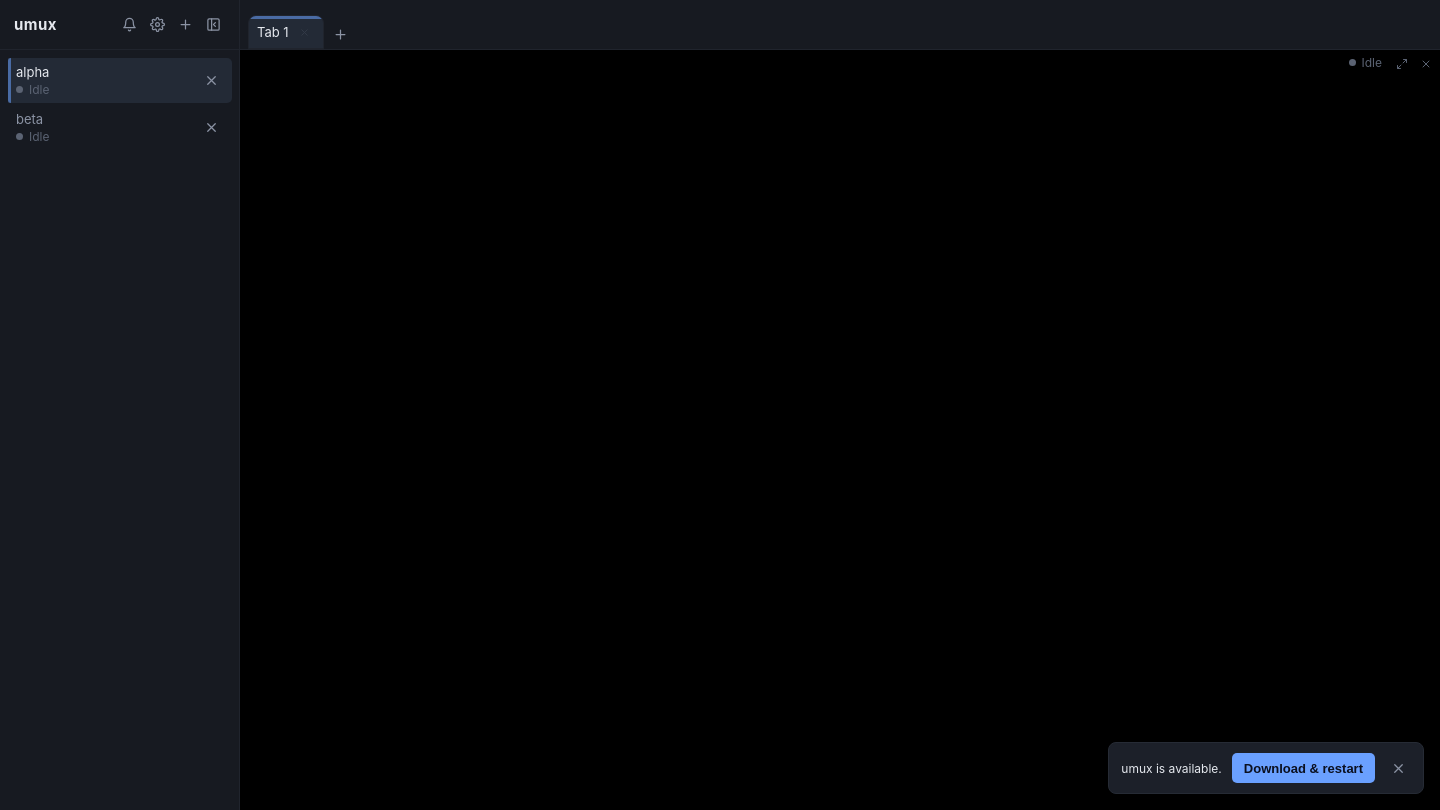
Test: terminal tabs, pin, and rename menu (#37 rework) › offers Pin and Rename in the row menu, both before Delete — and no split items (#47)
Expected: the text "alpha" is shown, [16, 64, 49, 80]
Right-click the list item with test id "workspace-row-ws-1" at [120, 80], box [8, 58, 232, 103]
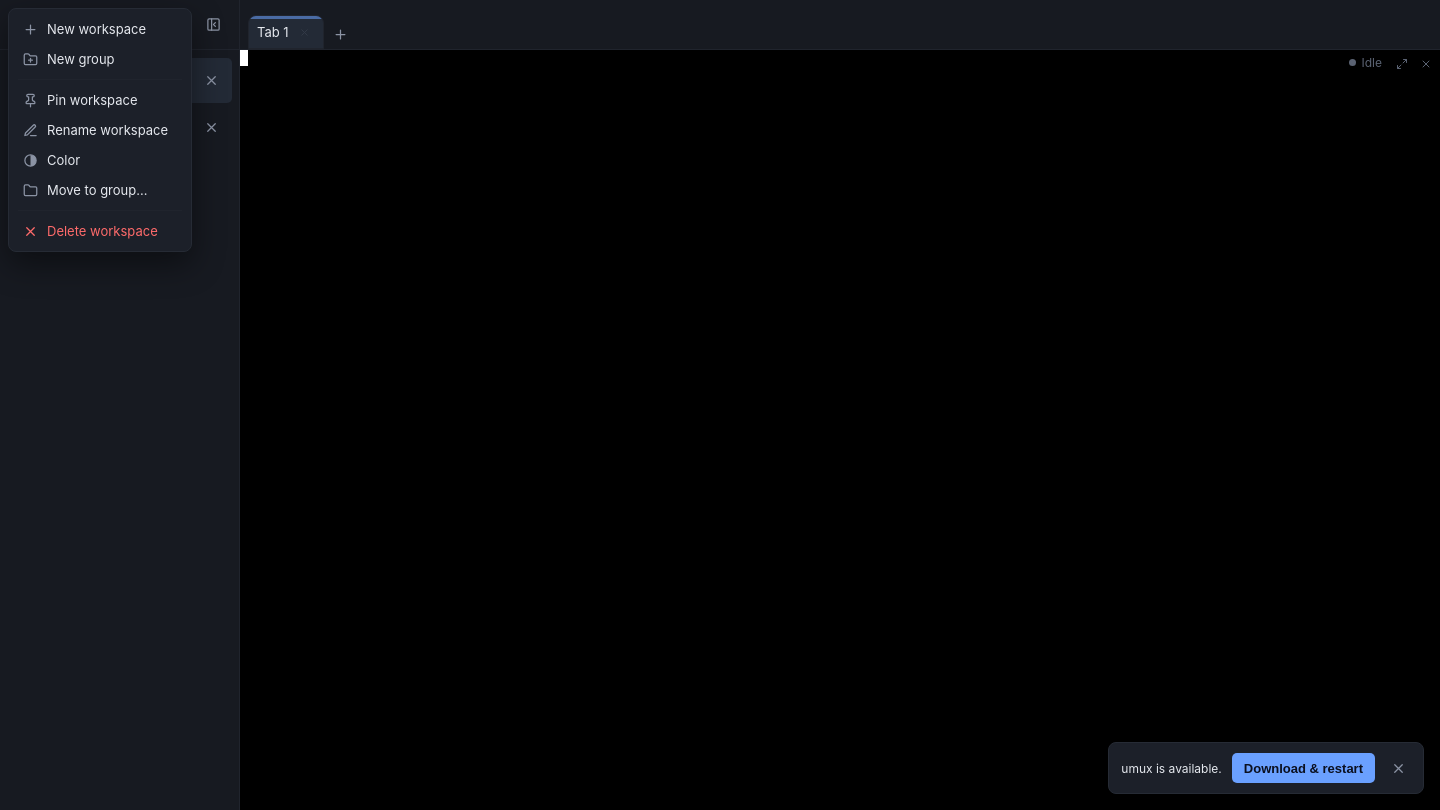
Expected: the menu item "Move to group…" is shown, [14, 175, 186, 205]
